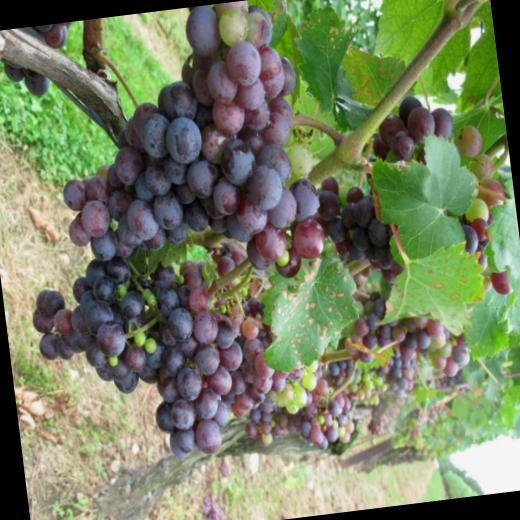Orange: (41, 0, 328, 304), (25, 242, 252, 472), (300, 85, 520, 316), (230, 284, 479, 460), (209, 290, 324, 422), (0, 21, 80, 101)
